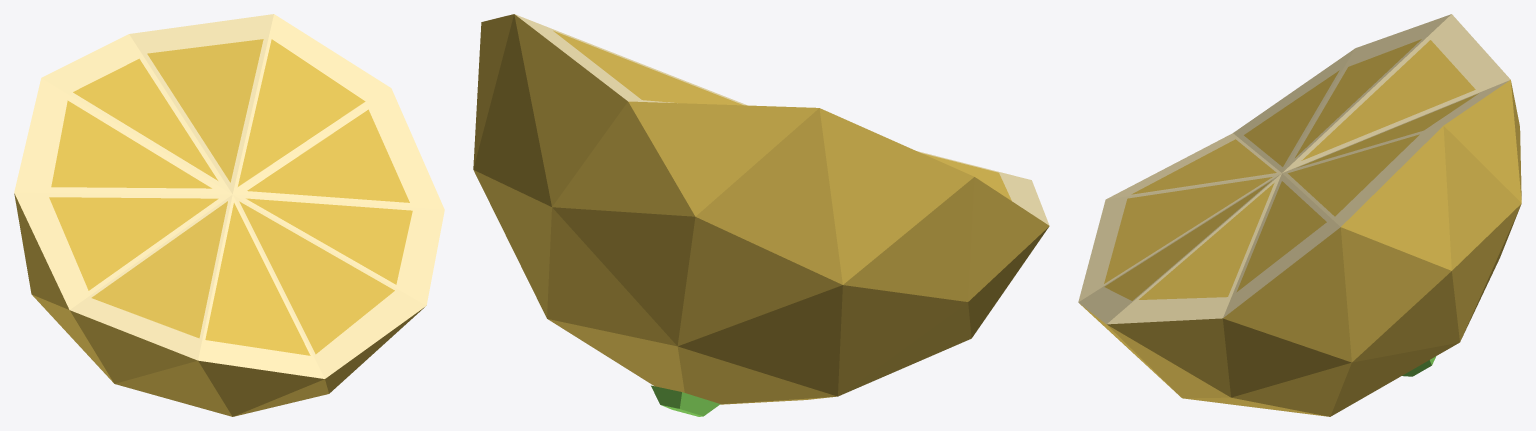
Rendered from grapefruit_cut.fbx.
3 views of the same model, side by side, from view 1: azimuth 30°, elevation 25°; view 2: azimuth 150°, elevation 25°; view 3: azimuth 270°, elevation 25° (orthographic). The views are drawn at different scales.
Visible parts, largest first — view 1: grapefruit_cut; view 2: grapefruit_cut; view 3: grapefruit_cut.
Part boxes in pixels (bbox=[...]): grapefruit_cut: bbox=[14, 14, 444, 416]; grapefruit_cut: bbox=[473, 14, 1049, 416]; grapefruit_cut: bbox=[1078, 14, 1521, 416].
Size of the model in its own units: 168 by 130 by 157.
